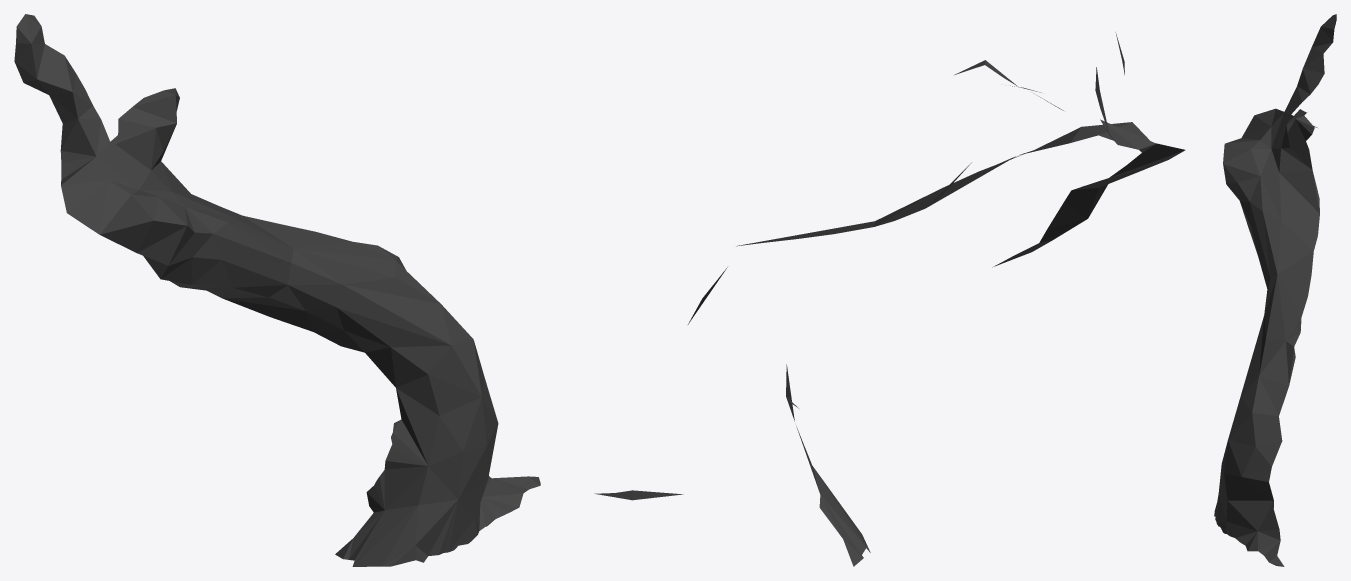
File: A_renal_L_A_renal_L.glb
3 renders of one model, left to right at view 1: azimuth 30°, elevation 25°; view 2: azimuth 150°, elevation 25°; view 3: azimuth 270°, elevation 25°, orthographic. The views are drawn at different scales.
Parts seen in each view (by area): view 1: A_renal_L_A_renal_L; view 2: A_renal_L_A_renal_L; view 3: A_renal_L_A_renal_L.
Part boxes in pixels (x1=…): A_renal_L_A_renal_L: x1=14, y1=14, x2=540, y2=566; A_renal_L_A_renal_L: x1=594, y1=32, x2=1185, y2=566; A_renal_L_A_renal_L: x1=1214, y1=14, x2=1336, y2=566.
Bounding box in the file's own units: 0.0162 × 0.0177 × 0.00495.
1 material, 1 textured.
